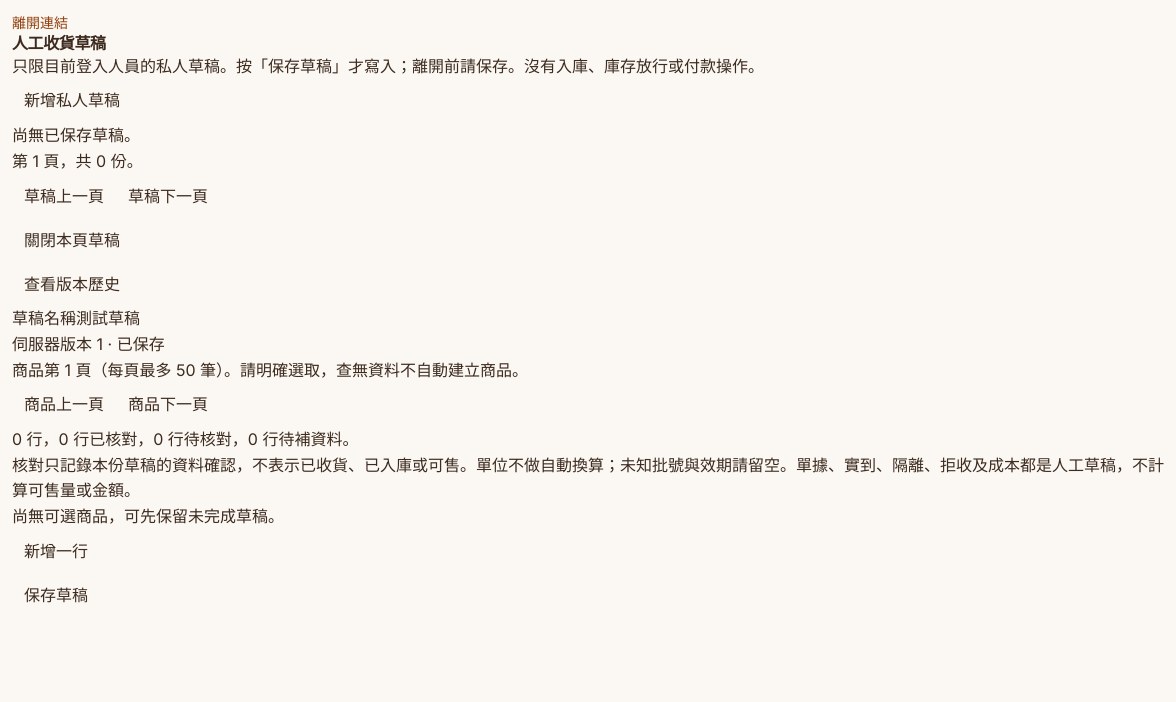
Scenario: shows historical content read-only without altering the current draft
This screenshot has width=1176, height=702.
Check: the field showing "測試草稿" is shown, box [76,306,310,332]
Click the button "查看版本歷史". click: x=72, y=284
box: [12,262,132,306]
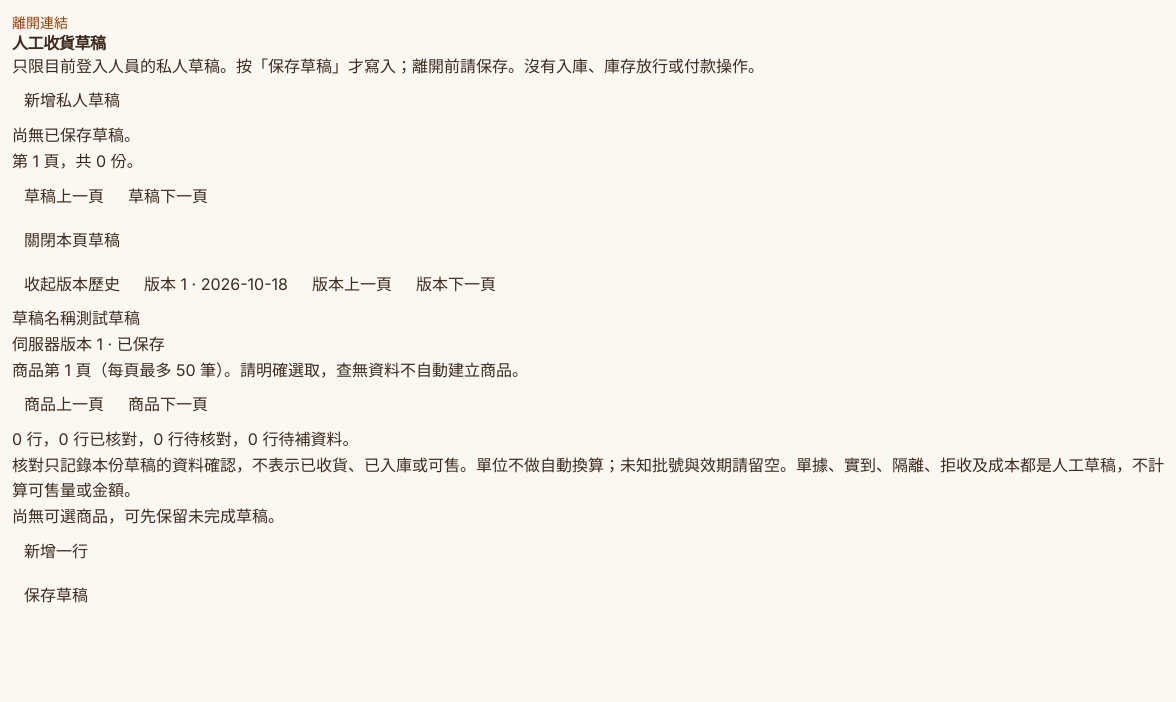
Click the button "版本 1 · 2026-10-18". click: x=216, y=284
box: [132,262,300,306]
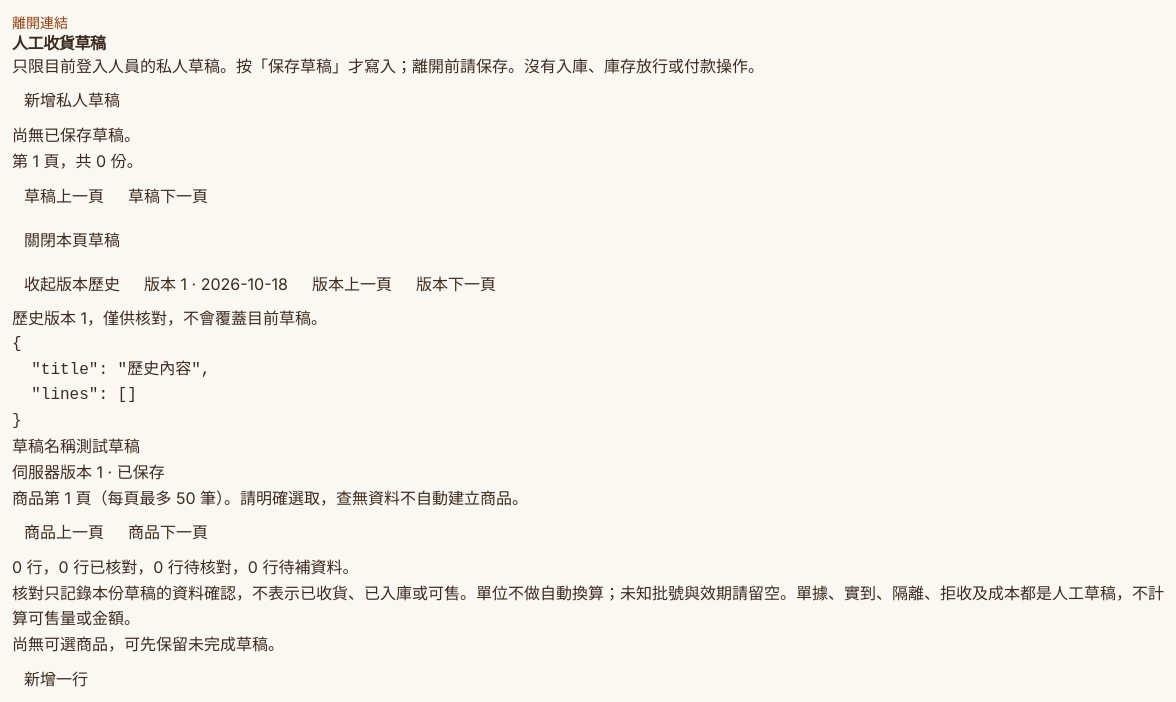
Check: the field showing "測試草稿" is shown, box [76,434,310,460]
Check: the text "歷史版本 1，僅供核對，不會覆蓋目前草稿。" is shown, box [12,308,327,328]
